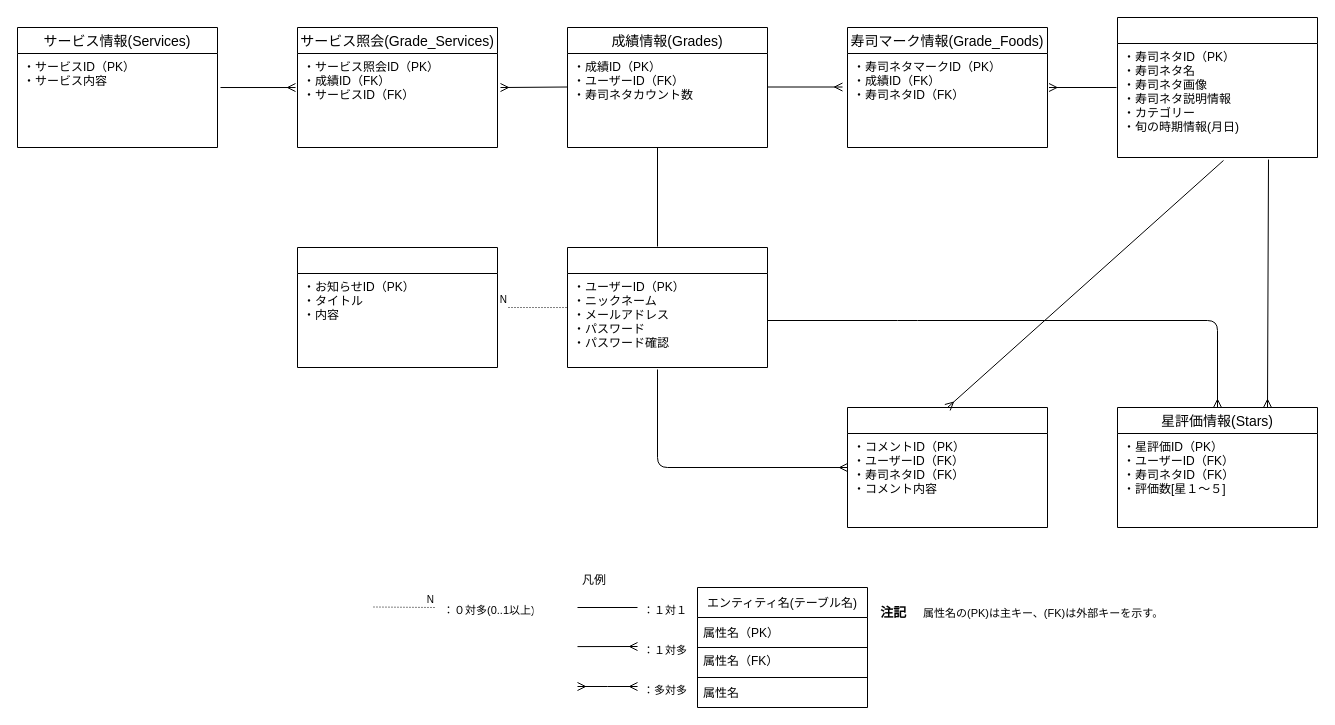
Image size: 1335x725. Some labels were removed from this diagram. The box of each missing label's shape, as (x1, y1, x2, y2) in pixels:
お知らせ情報(Informations): (296, 246, 498, 368)
コメント情報(Comments): (846, 406, 1048, 528)
ユーザー情報(Users): (566, 246, 768, 368)
寿司ネタ情報(Foods): (1116, 16, 1318, 158)
